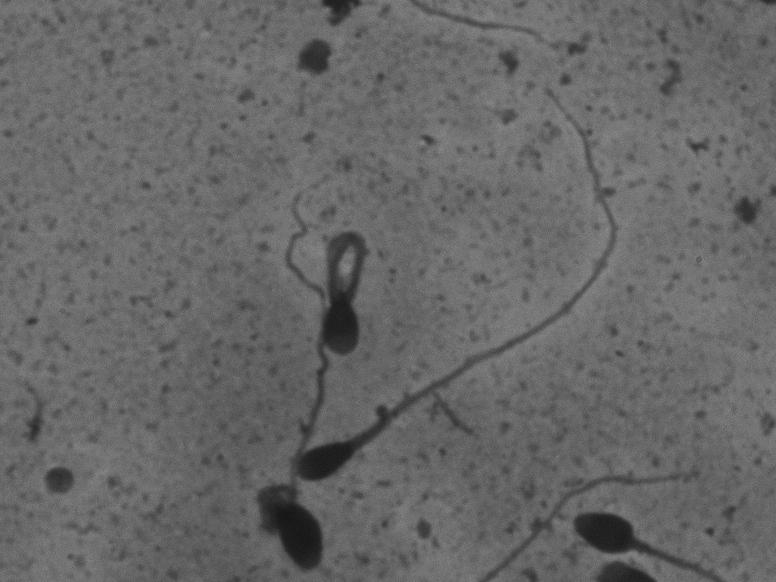Abnormal: (287, 63, 635, 487), (307, 208, 394, 363), (233, 481, 348, 571)
